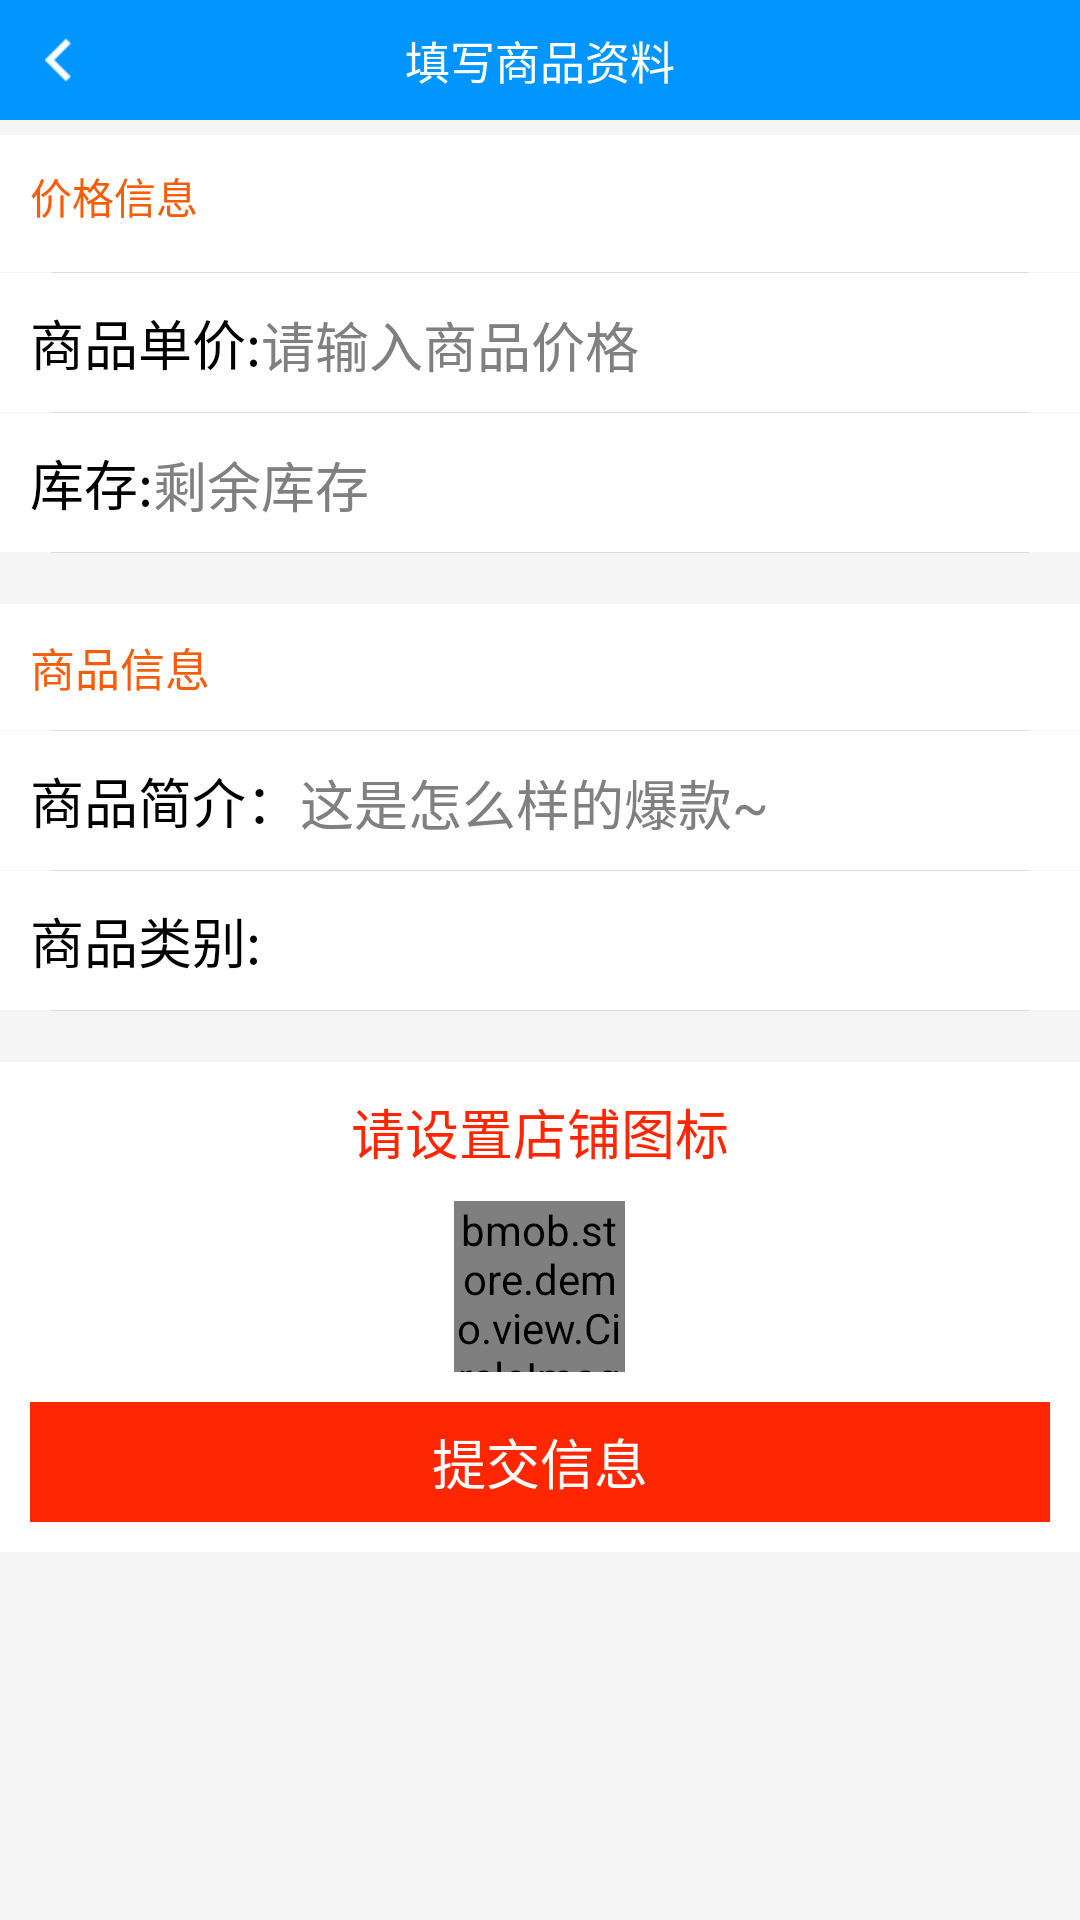

Where to tap for icons on this 1080 x 1920 app screen, as (x=x, y=y):
back indicator: (x=58, y=60)
